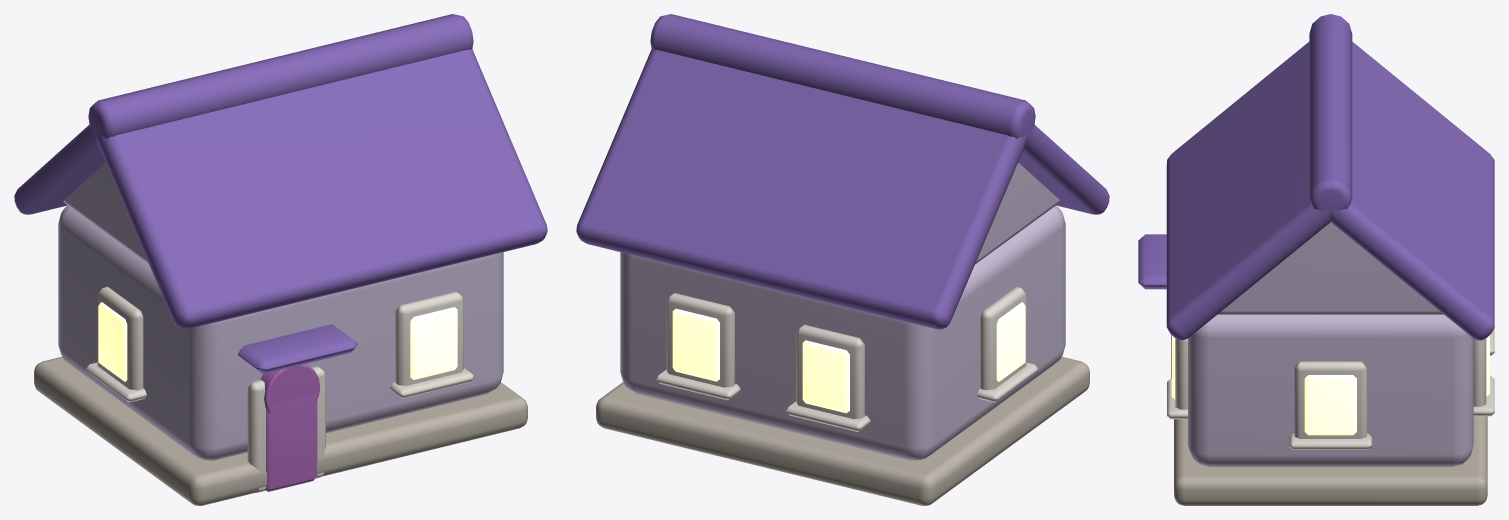
3 views of the same model, side by side, from view 1: azimuth 30°, elevation 25°; view 2: azimuth 150°, elevation 25°; view 3: azimuth 270°, elevation 25° (orthographic). The views are drawn at different scales.
Visible parts, largest first — view 1: Cube; view 2: Cube; view 3: Cube.
Boxes of the visible parts, left/top/right/bottom form: Cube: left=14, top=14, right=547, bottom=505; Cube: left=576, top=14, right=1109, bottom=505; Cube: left=1138, top=14, right=1494, bottom=505.
Bounding box in the file's own units: 0.57 × 0.5175 × 0.4999.
